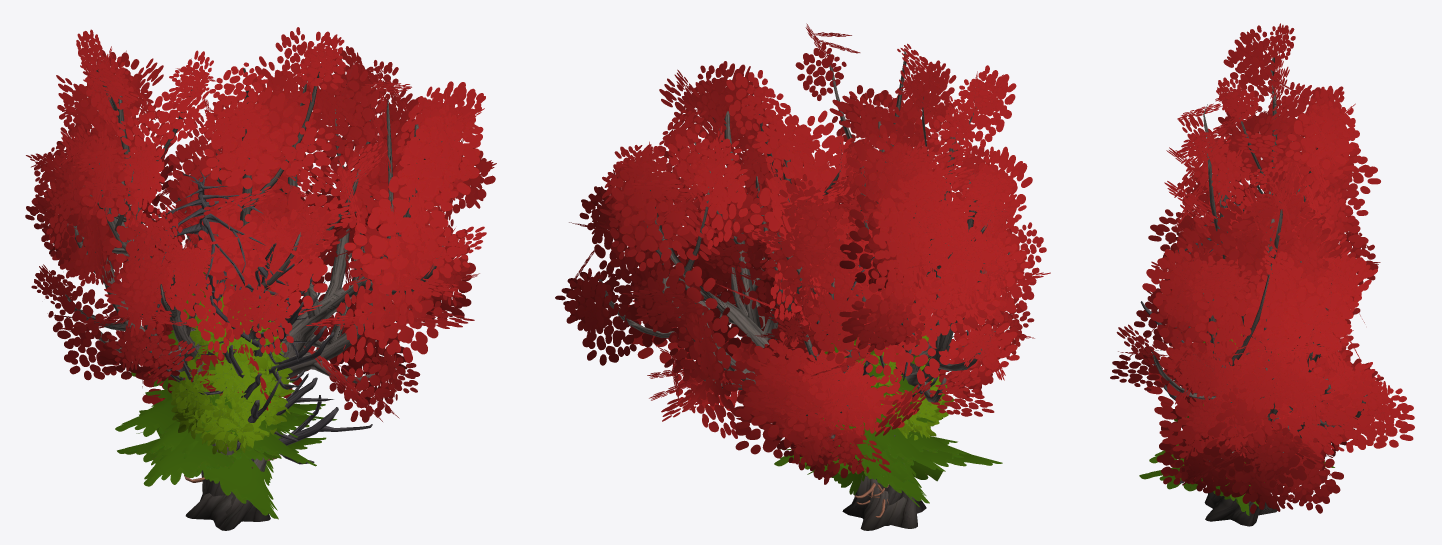
Rendered from trees-far.glb.
3 views of the same model, side by side, from view 1: azimuth 30°, elevation 25°; view 2: azimuth 150°, elevation 25°; view 3: azimuth 270°, elevation 25° (orthographic). The views are drawn at different scales.
Visible parts, largest first — view 1: TwistedTree_2, TwistedTree_1, Pine_5, CommonTree_3, Pine_4, DeadTree_2, CommonTree_1, CommonTree_2, DeadTree_3, DeadTree_1, Pine_1, Pine_2; view 2: TwistedTree_1, TwistedTree_2, Pine_5, Pine_1, Pine_4, CommonTree_2, Pine_2; view 3: TwistedTree_1, TwistedTree_2, Pine_5.
Part boxes in pixels (<box>): TwistedTree_2: <box>25,29,346,514</box>; TwistedTree_1: <box>142,27,496,530</box>; Pine_5: <box>115,372,336,519</box>; CommonTree_3: <box>174,269,292,432</box>; Pine_4: <box>143,267,325,486</box>; DeadTree_2: <box>176,243,372,464</box>; CommonTree_1: <box>171,339,289,454</box>; CommonTree_2: <box>167,339,294,448</box>; DeadTree_3: <box>137,171,298,521</box>; DeadTree_1: <box>158,281,333,441</box>; Pine_1: <box>117,381,294,468</box>; Pine_2: <box>209,390,326,460</box>; TwistedTree_1: <box>555,61,926,530</box>; TwistedTree_2: <box>751,23,1050,505</box>; Pine_5: <box>823,339,963,507</box>; Pine_1: <box>855,428,967,503</box>; Pine_4: <box>774,269,1002,517</box>; CommonTree_2: <box>893,382,953,438</box>; Pine_2: <box>780,449,888,498</box>; TwistedTree_1: <box>1110,162,1414,526</box>; TwistedTree_2: <box>1148,23,1380,513</box>; Pine_5: <box>1139,345,1307,504</box>.
Bounding box in the file's own units: 19.2 × 19.49 × 13.17.
Materials: 6 (6 with a texture image).
